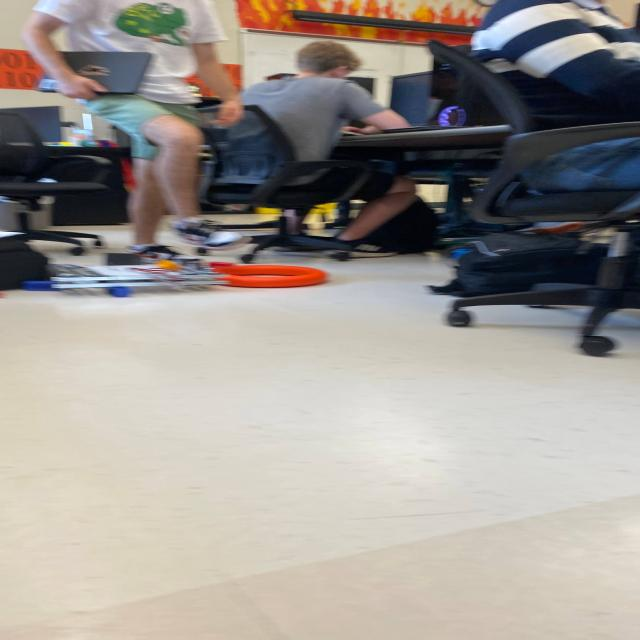blue-specimen: (107, 286, 134, 298), (23, 282, 49, 290)
red-specimen: (207, 261, 237, 269)
yellow-specimen: (154, 260, 181, 271)
